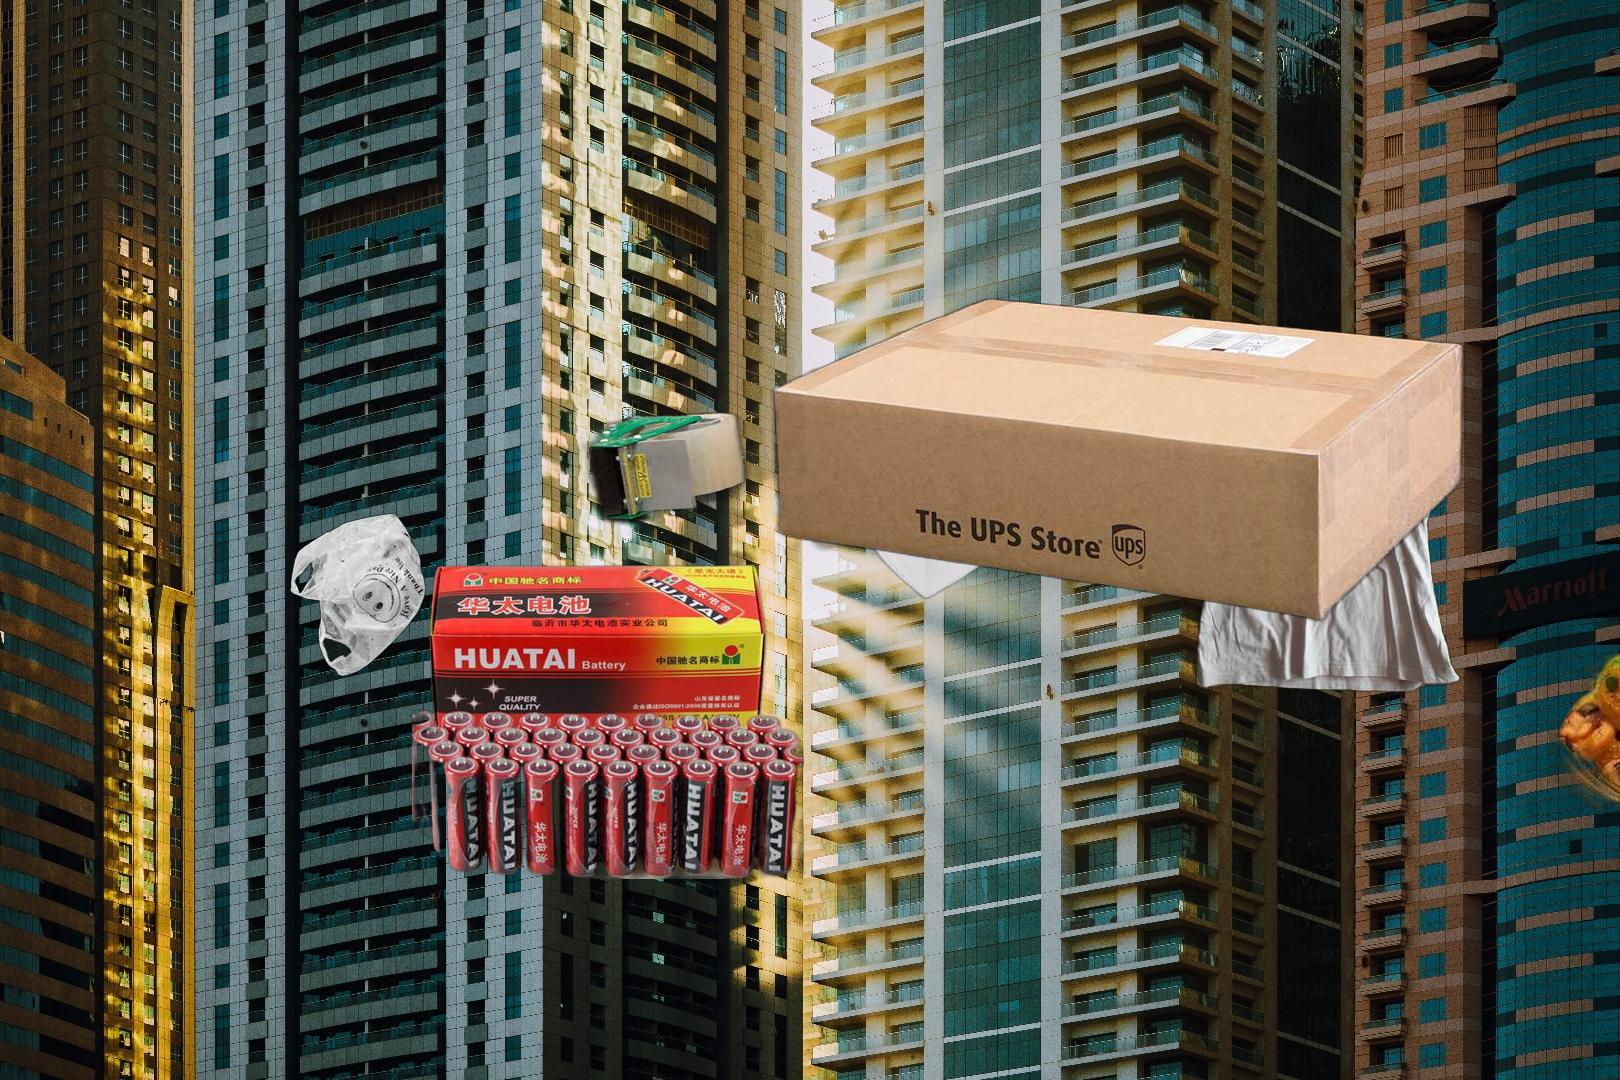battery: (412, 562, 804, 879)
biological: (1549, 607, 1620, 832)
clothes: (1129, 366, 1465, 695)
metal-cans: (846, 348, 1346, 829)
plastic-bag: (287, 507, 429, 677)
trash: (802, 394, 1027, 612)
trashbox-cardboard: (538, 294, 1475, 626)
